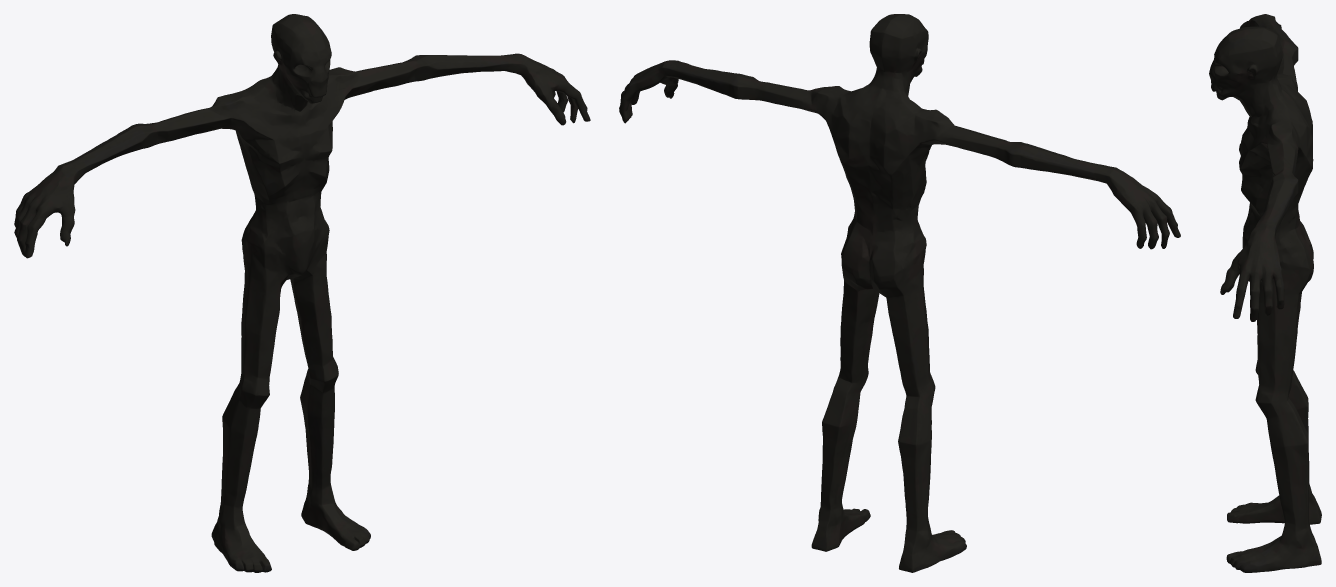
Rendered from watcher.glb.
The picture shows the model from 3 angles, left to right: view 1: azimuth 30°, elevation 25°; view 2: azimuth 150°, elevation 25°; view 3: azimuth 270°, elevation 25°; orthographic projection. The views are drawn at different scales.
Parts seen in each view (by area): view 1: tripo_node_a65373d9-b77f-44e6-b174-bcdd8b11b849; view 2: tripo_node_a65373d9-b77f-44e6-b174-bcdd8b11b849; view 3: tripo_node_a65373d9-b77f-44e6-b174-bcdd8b11b849.
Part boxes in pixels (left/top/right/bottom): tripo_node_a65373d9-b77f-44e6-b174-bcdd8b11b849: left=14, top=14, right=590, bottom=572; tripo_node_a65373d9-b77f-44e6-b174-bcdd8b11b849: left=619, top=14, right=1180, bottom=572; tripo_node_a65373d9-b77f-44e6-b174-bcdd8b11b849: left=1209, top=14, right=1321, bottom=572.
Size of the model in its own units: 1 by 0.9069 by 0.1799.
Materials: 1 (1 with a texture image).
